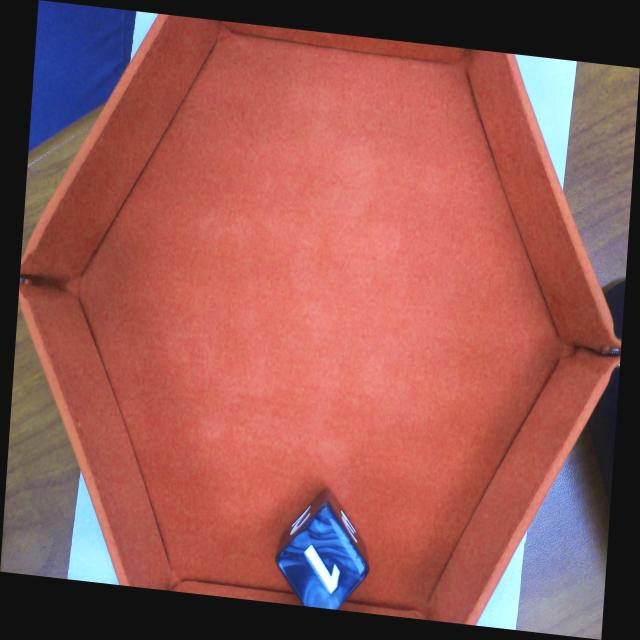dice: (276, 503, 368, 610)
